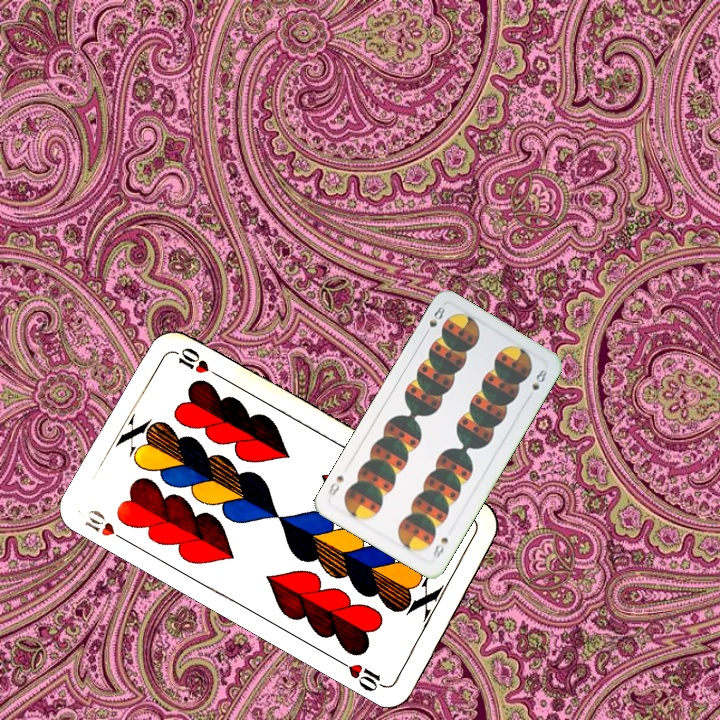H10: (80, 505, 133, 547)
S8: (420, 302, 448, 339), (429, 533, 451, 561)
